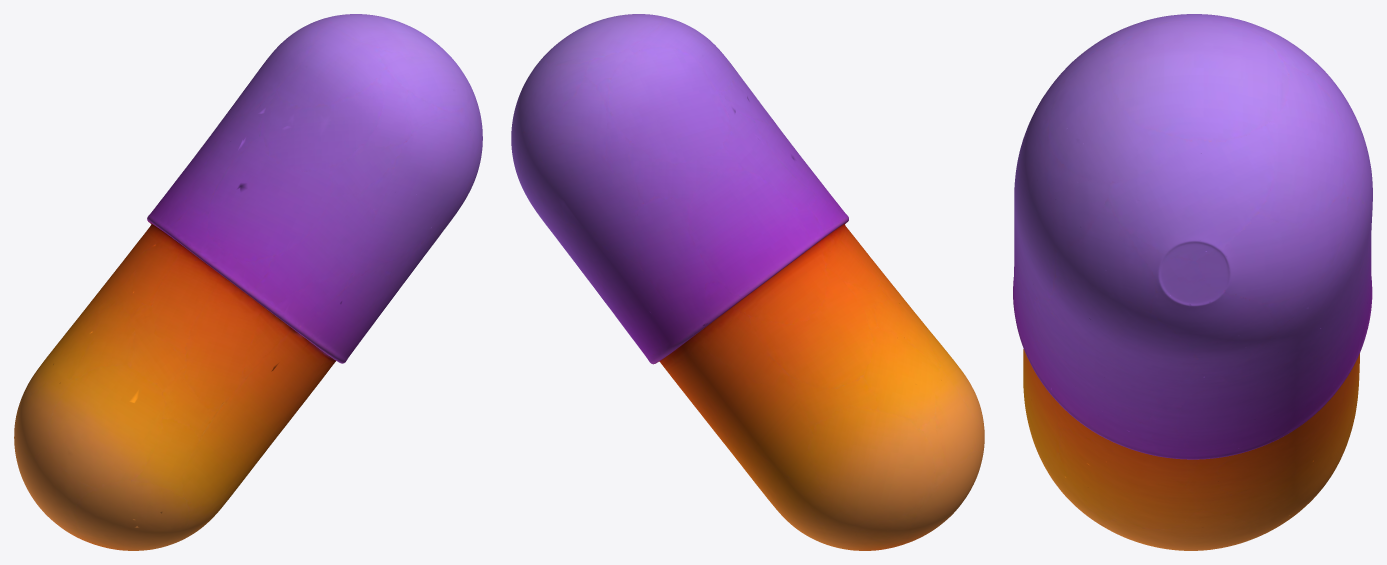
The model's file is pill.glb.
3 renders of one model, left to right at view 1: azimuth 30°, elevation 25°; view 2: azimuth 150°, elevation 25°; view 3: azimuth 270°, elevation 25°, orthographic. The views are drawn at different scales.
Visible parts, largest first — view 1: node_0; view 2: node_0; view 3: node_0.
Boxes of the visible parts, box(x1,y1,x2,y2) form: node_0: box(14, 14, 482, 550); node_0: box(511, 14, 984, 550); node_0: box(1013, 14, 1372, 550).
Bounding box in the file's own units: 0.9843 × 0.9839 × 0.481.
1 material, 1 textured.
